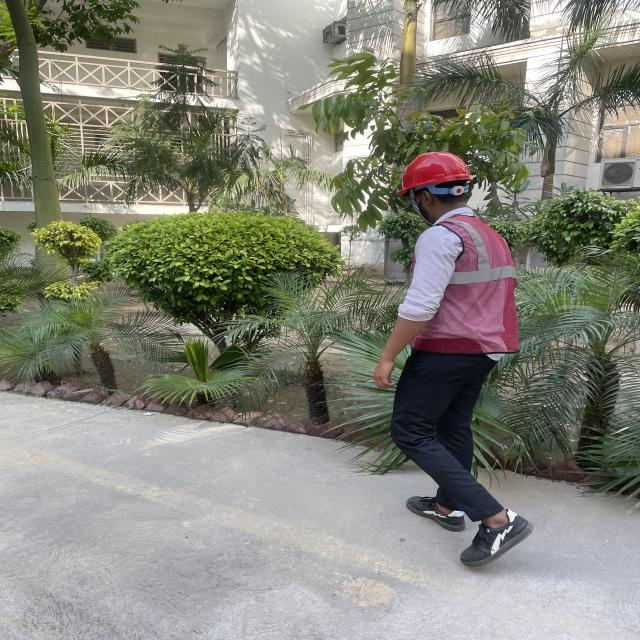safe: (374, 152, 533, 567)
